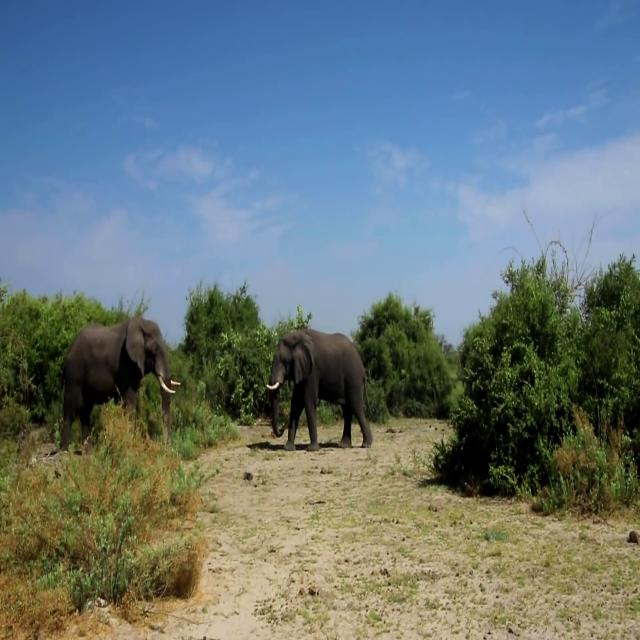Elephant: (59, 314, 181, 452), (266, 328, 373, 452)
